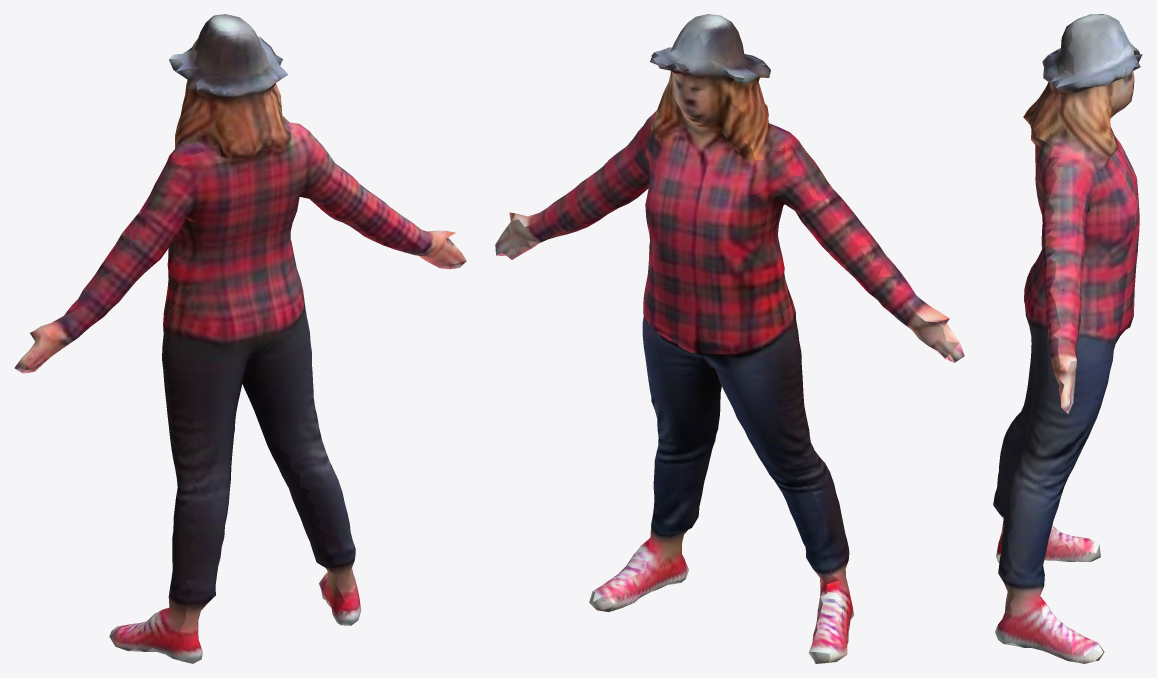
3 renders of one model, left to right at view 1: azimuth 30°, elevation 25°; view 2: azimuth 150°, elevation 25°; view 3: azimuth 270°, elevation 25°, orthographic. The views are drawn at different scales.
Parts seen in each view (by area): view 1: world; view 2: world; view 3: world.
Part boxes in pixels (x1,y1,x2,y2): world: (14, 14, 466, 663); world: (495, 14, 964, 663); world: (993, 14, 1142, 663).
Size of the model in its own units: 0.7954 by 1 by 0.2292.
Materials: 1 (1 with a texture image).
